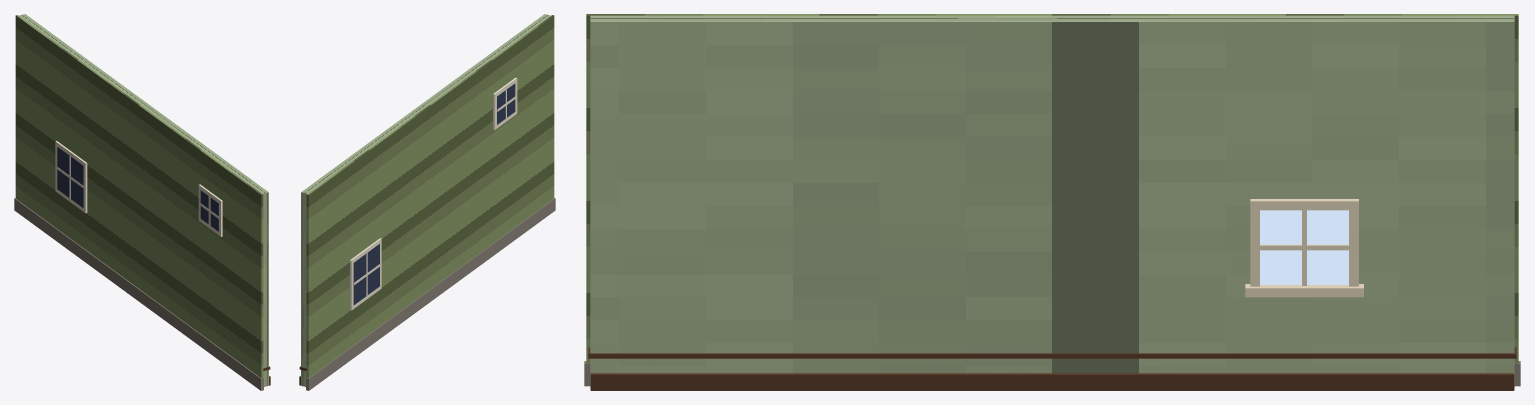
Rendered from right.glb.
3 renders of one model, left to right at view 1: azimuth 30°, elevation 25°; view 2: azimuth 150°, elevation 25°; view 3: azimuth 270°, elevation 25°, orthographic. The views are drawn at different scales.
Visible parts, largest first — view 1: Box3, Box4, Box1, Box6, Box5, Box17, Box16; view 2: Box3, Box4, Box1, Box6, Box5, Box17, Box16; view 3: Box1, Box2, Box13, Box21, Box3, Box10, Box9.
Boxes of the visible parts, x1=… form: Box3: x1=15, y1=15, x2=263, y2=378; Box4: x1=14, y1=198, x2=263, y2=390; Box1: x1=19, y1=14, x2=268, y2=386; Box6: x1=57, y1=147, x2=83, y2=207; Box5: x1=55, y1=141, x2=87, y2=213; Box17: x1=200, y1=190, x2=218, y2=231; Box16: x1=198, y1=184, x2=222, y2=236; Box3: x1=306, y1=15, x2=554, y2=378; Box4: x1=306, y1=198, x2=555, y2=390; Box1: x1=301, y1=14, x2=550, y2=386; Box6: x1=353, y1=244, x2=379, y2=304; Box5: x1=350, y1=238, x2=381, y2=310; Box17: x1=497, y1=83, x2=515, y2=124; Box16: x1=493, y1=77, x2=517, y2=130; Box1: x1=590, y1=15, x2=1514, y2=388; Box2: x1=590, y1=373, x2=1514, y2=390; Box13: x1=1260, y1=210, x2=1348, y2=284; Box21: x1=588, y1=347, x2=1516, y2=358; Box3: x1=586, y1=14, x2=1518, y2=363; Box10: x1=1245, y1=284, x2=1363, y2=297; Box9: x1=1250, y1=199, x2=1358, y2=210.
Bounding box in the file's own units: 0.338 × 4.14 × 9.47.
8 materials, 2 textured.
